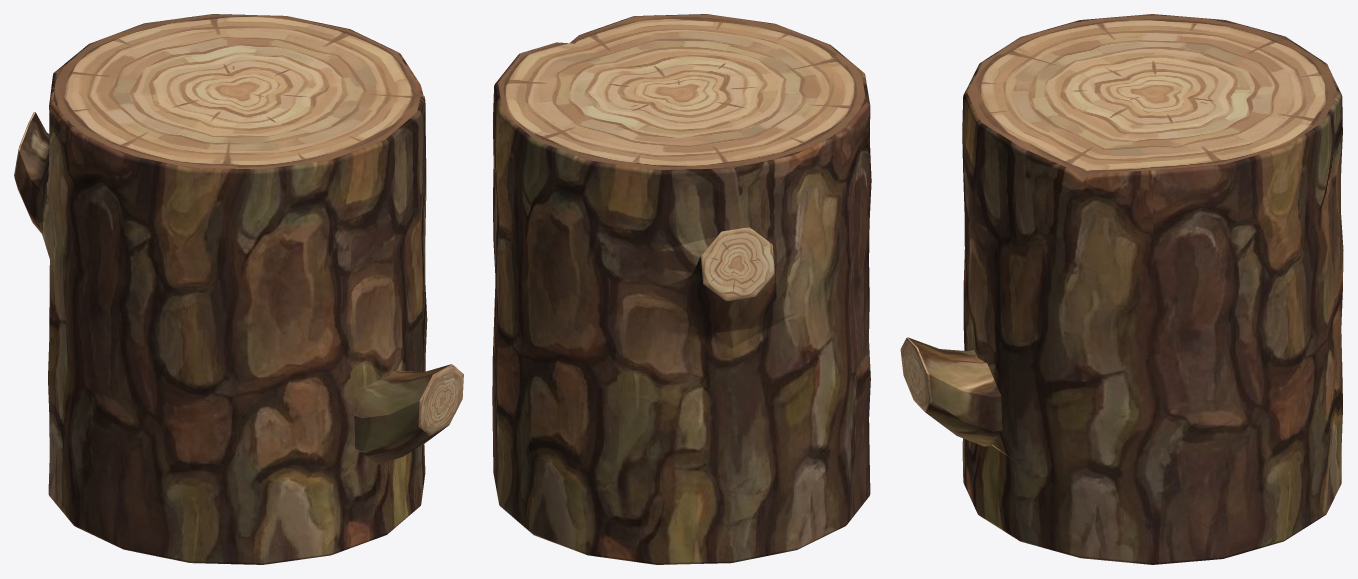
File: log_01.fbx
3 renders of one model, left to right at view 1: azimuth 30°, elevation 25°; view 2: azimuth 150°, elevation 25°; view 3: azimuth 270°, elevation 25°, orthographic.
Visible parts, largest first — view 1: generated_log_01; view 2: generated_log_01; view 3: generated_log_01.
Boxes of the visible parts, left/top/right/bottom form: generated_log_01: left=14, top=14, right=463, bottom=564; generated_log_01: left=492, top=14, right=871, bottom=564; generated_log_01: left=900, top=14, right=1343, bottom=564.
Bounding box in the file's own units: 95.94 × 110 × 112.
Materials: 2 (2 with a texture image).
